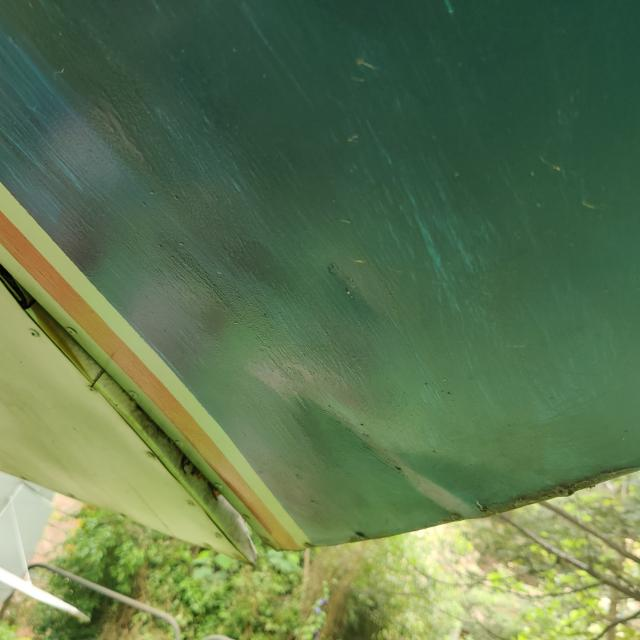dent: (239, 352, 516, 548), (294, 228, 408, 346)
